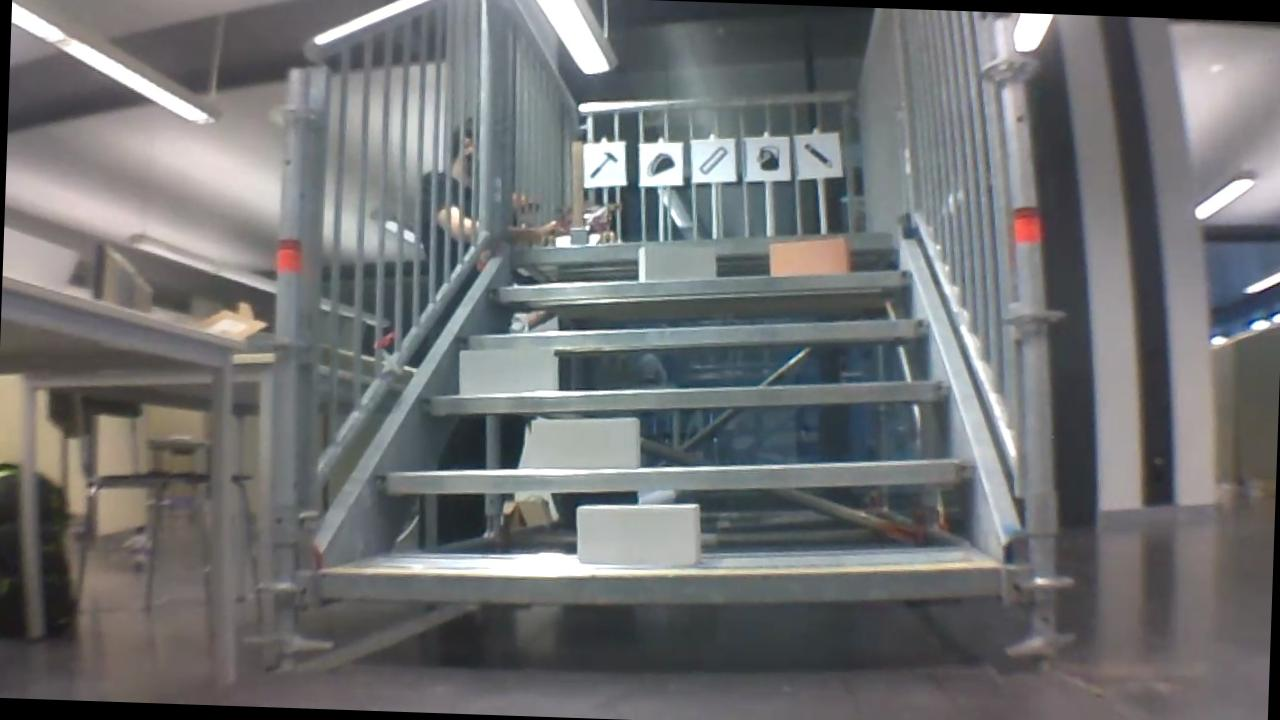brick: (576, 501, 699, 565), (529, 415, 641, 470), (457, 346, 553, 396), (636, 242, 716, 283), (772, 235, 847, 276)
bucket: (754, 140, 785, 171)
edge: (314, 543, 997, 619), (373, 440, 971, 509), (423, 364, 955, 426), (456, 304, 936, 360), (490, 256, 916, 311), (521, 221, 895, 267)
hammer: (582, 142, 621, 180)
pencil: (799, 138, 841, 172)
ruler: (697, 139, 731, 180)
steps: (302, 208, 1025, 630)
taco: (647, 151, 677, 179)
